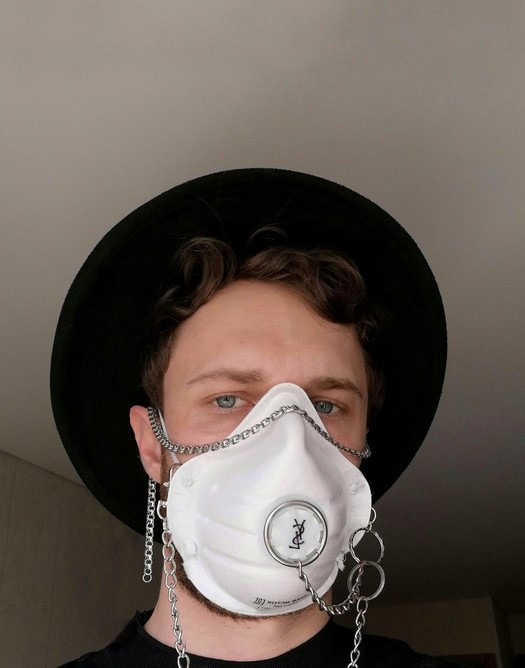face_with_mask: (126, 242, 409, 625)
